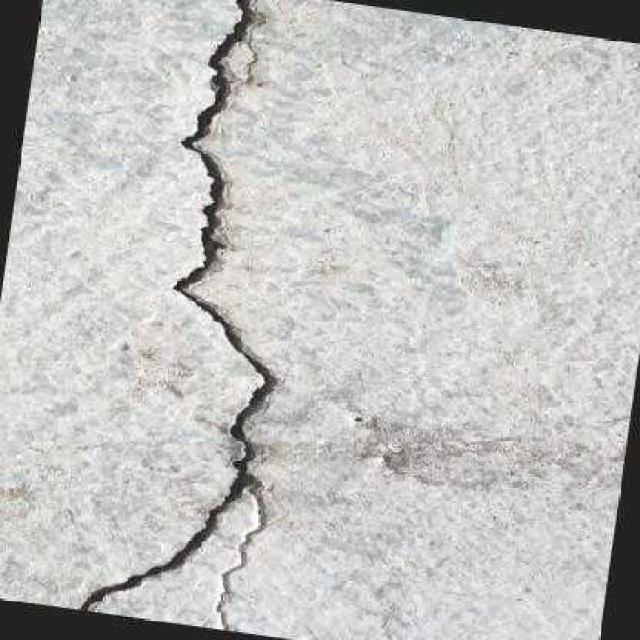D00: (72, 0, 275, 611), (215, 485, 263, 629)
